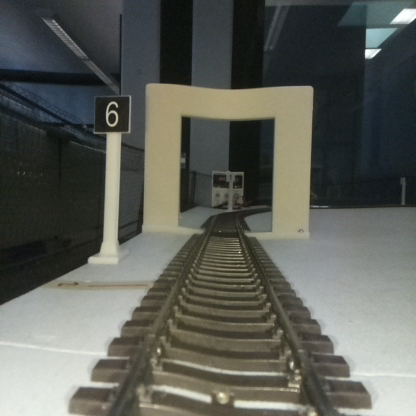black-info-6: (94, 95, 129, 263)
